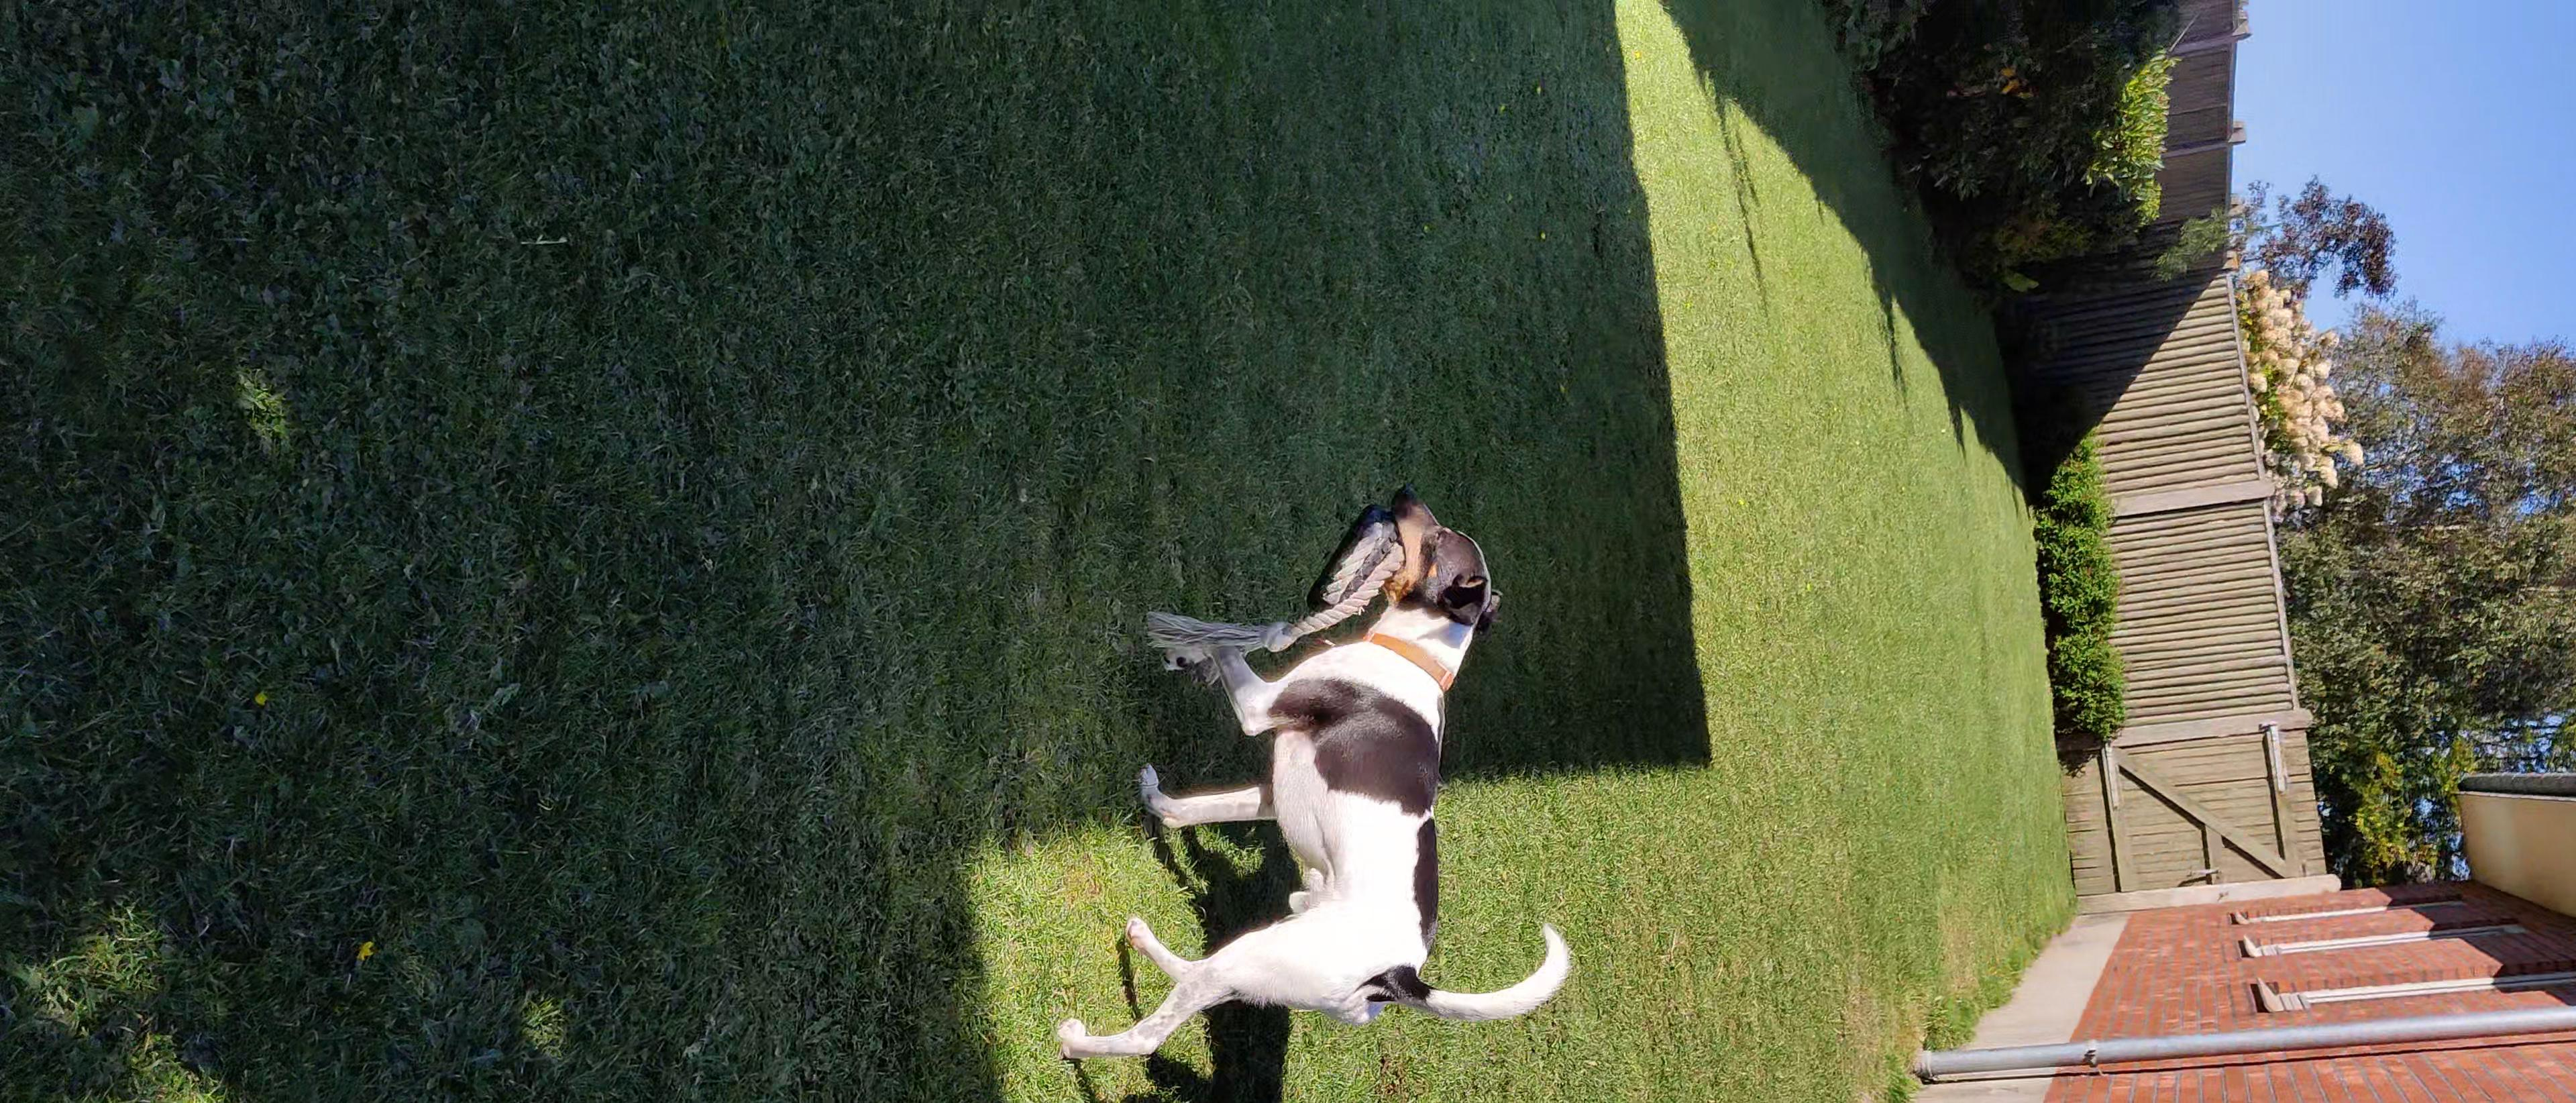Dog: (1037, 473, 1598, 1070)
